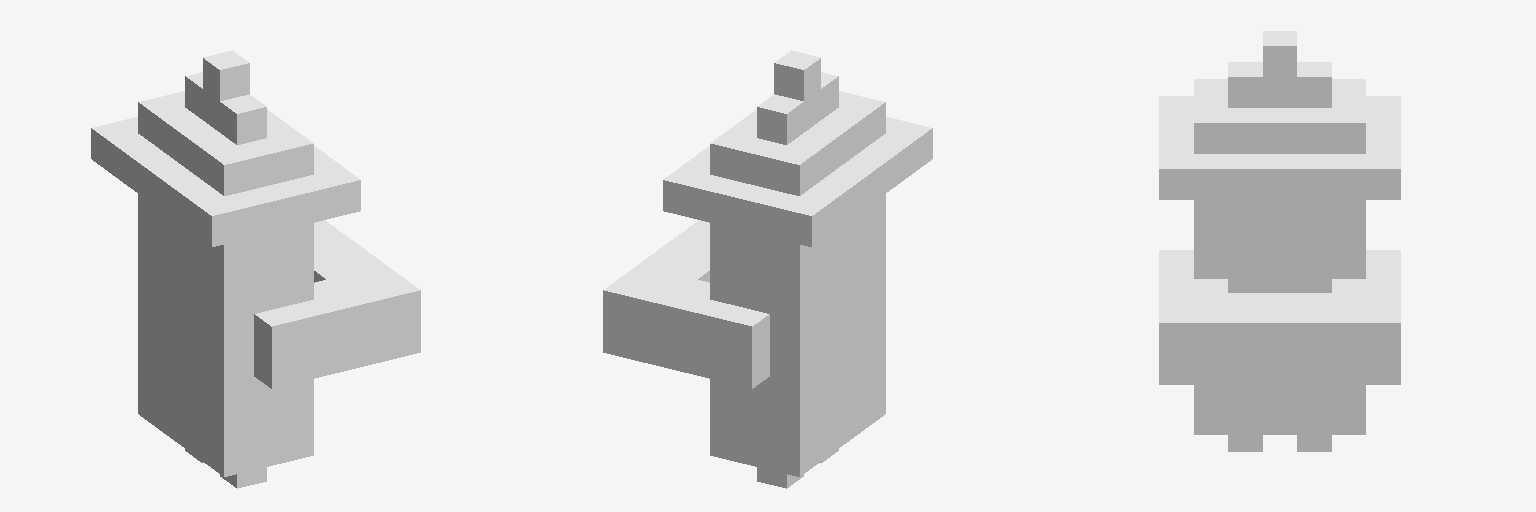
The model's file is mago.obj.
The picture shows the model from 3 angles: view 1: azimuth 30°, elevation 25°; view 2: azimuth 150°, elevation 25°; view 3: azimuth 270°, elevation 25°; orthographic projection.
Size of the model in its own units: 7 by 13 by 7.